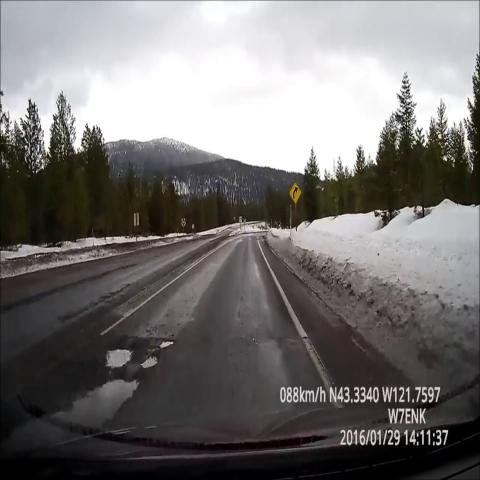pothole: (44, 368, 151, 446), (99, 333, 135, 376), (136, 338, 171, 376)
